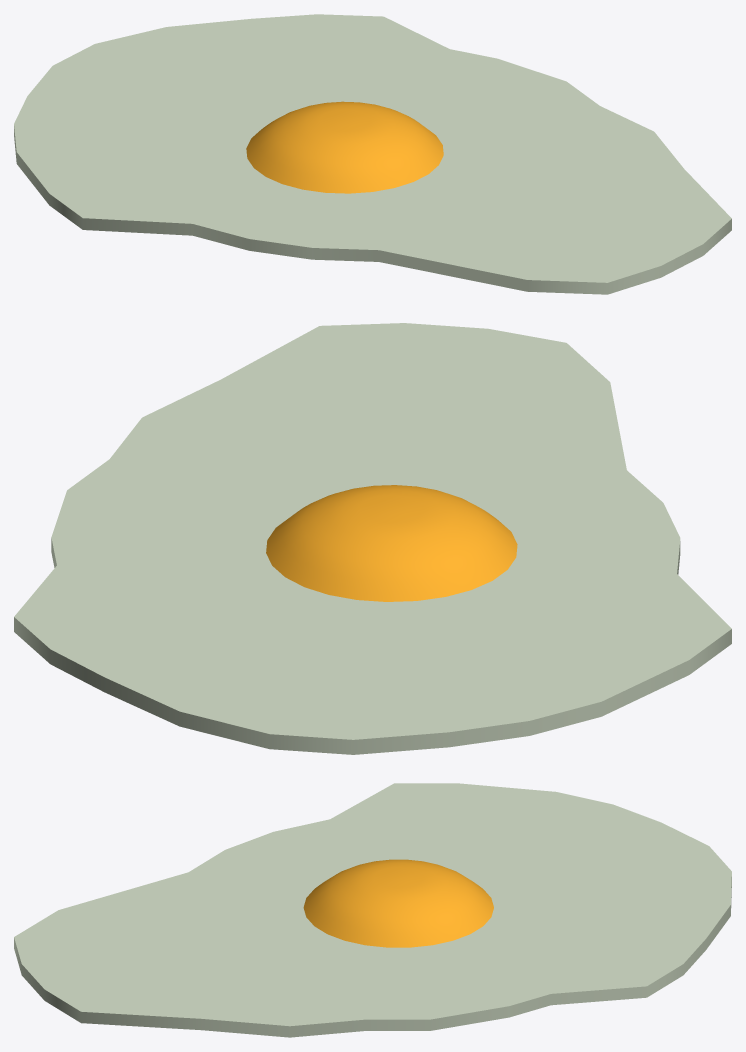
The model's file is Egg.FBX.
The picture shows the model from 3 angles, top to bottom: view 1: azimuth 30°, elevation 25°; view 2: azimuth 150°, elevation 25°; view 3: azimuth 270°, elevation 25°; orthographic projection. The views are drawn at different scales.
Parts seen in each view (by area): view 1: Egg; view 2: Egg; view 3: Egg.
Boxes of the visible parts, left/top/right/bottom form: Egg: left=14, top=14, right=731, bottom=294; Egg: left=14, top=323, right=731, bottom=754; Egg: left=14, top=783, right=731, bottom=1037.
Size of the model in its own units: 120 by 9.69 by 149.
